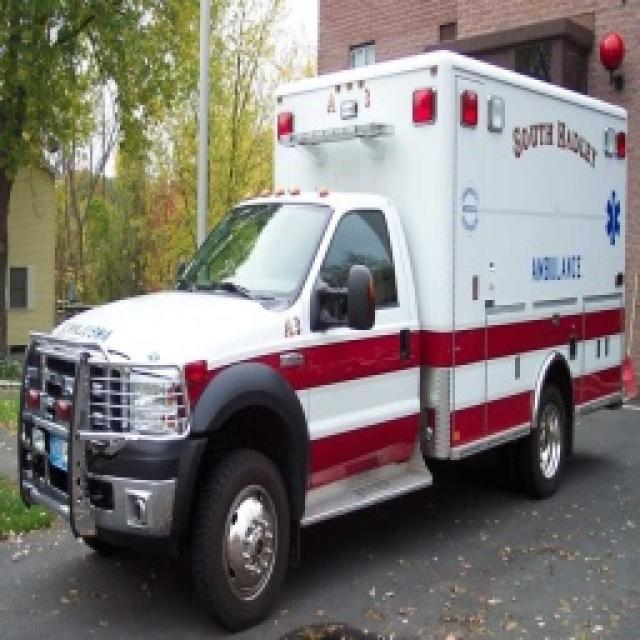ambulance: (20, 45, 635, 625)
